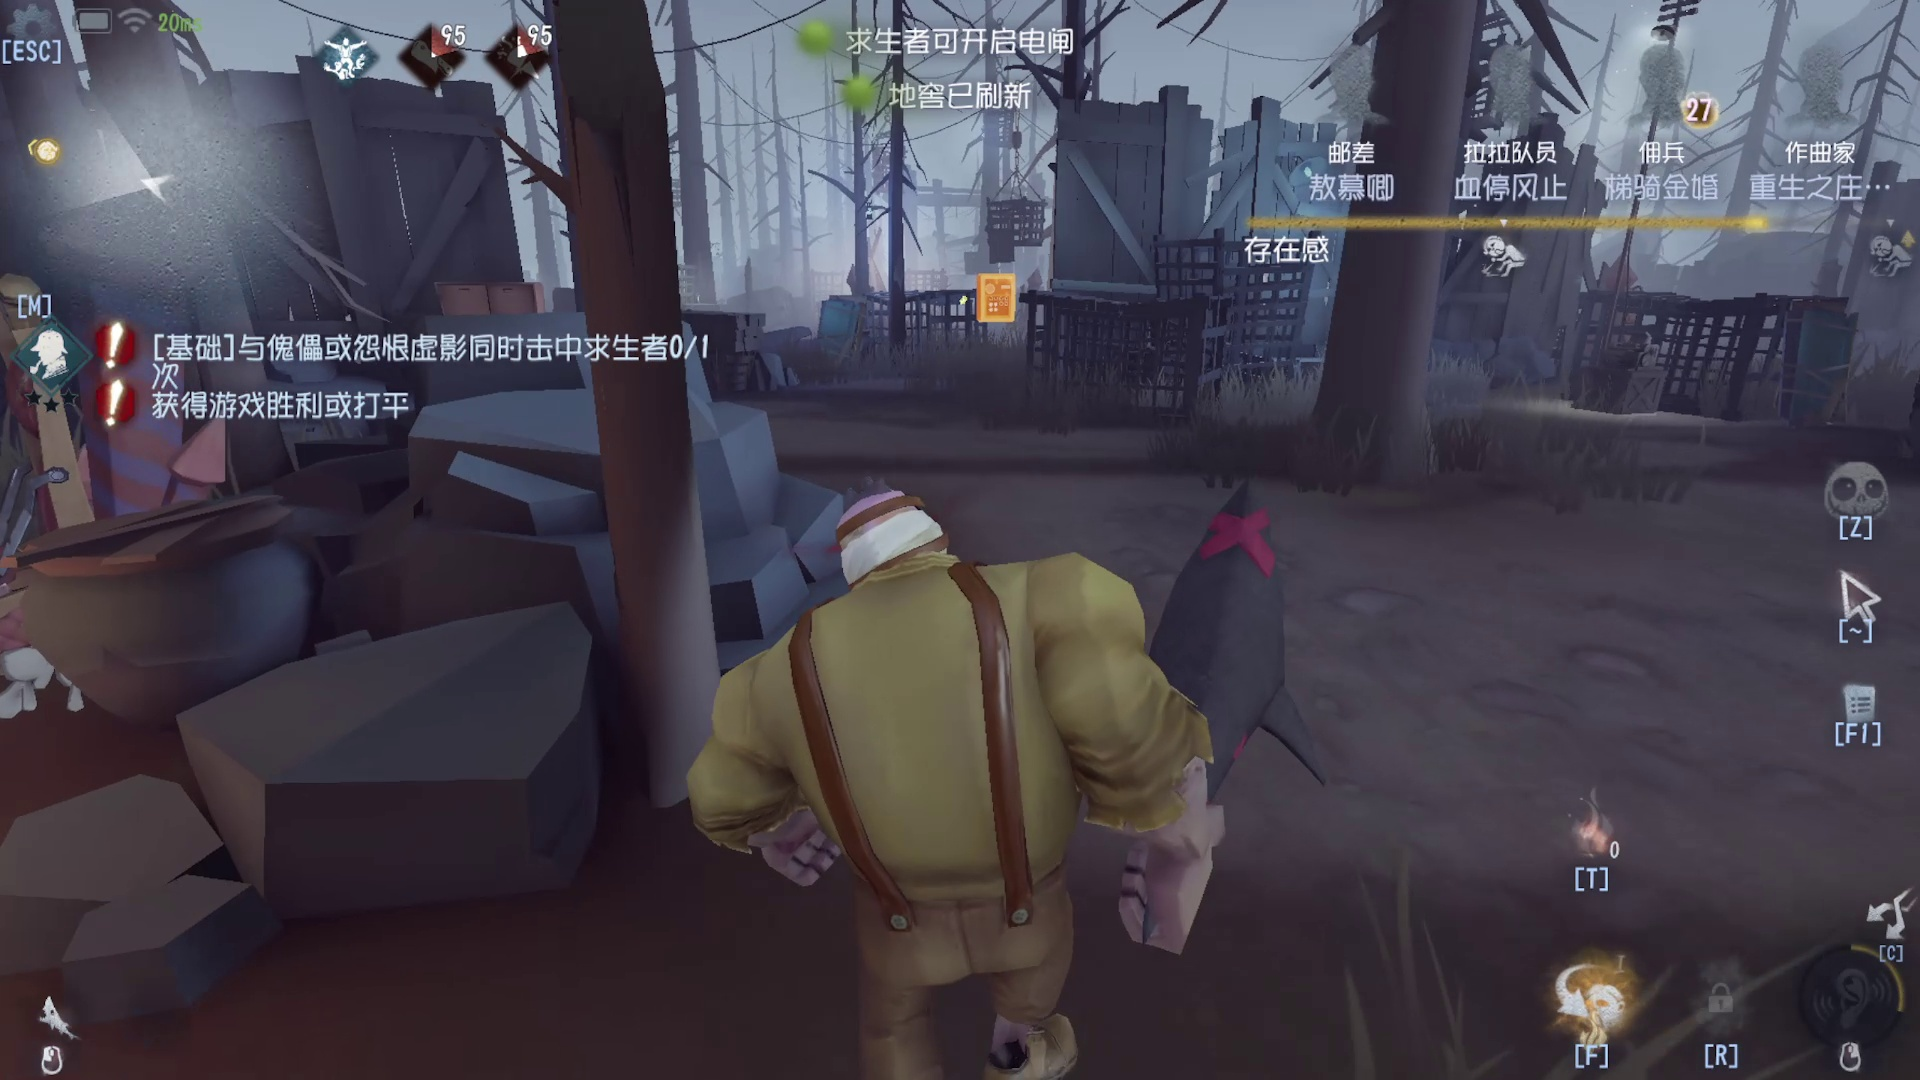技能: (1510, 752, 1672, 905)
木板: (767, 273, 898, 400)
